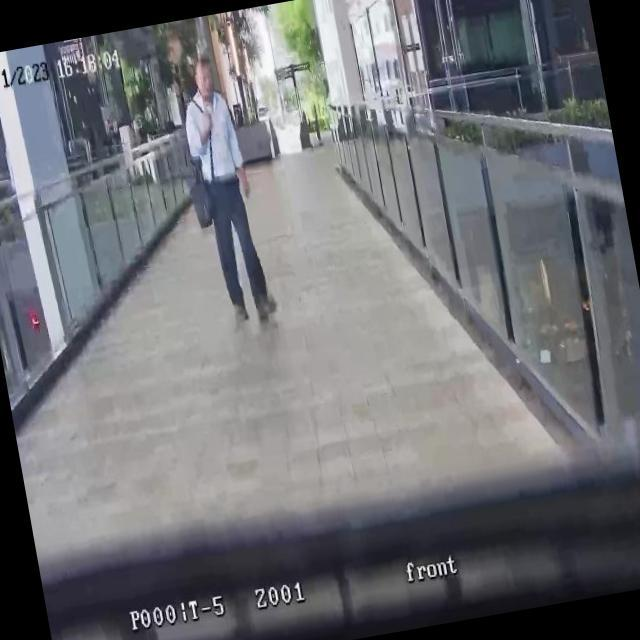person: (171, 41, 279, 330)
